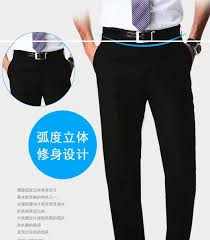F_belt: (92, 22, 189, 46), (2, 44, 73, 67)
F_dress pants: (90, 40, 195, 239)
